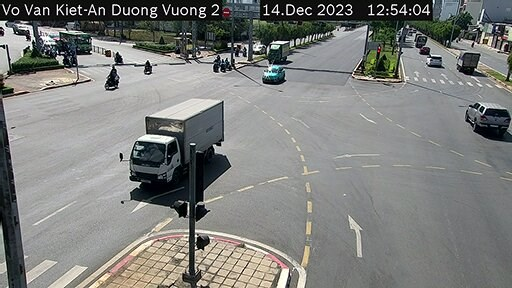car: (465, 99, 506, 130), (260, 64, 281, 83), (425, 55, 442, 67)
truck: (129, 92, 242, 186), (455, 48, 477, 71), (267, 38, 289, 61)
